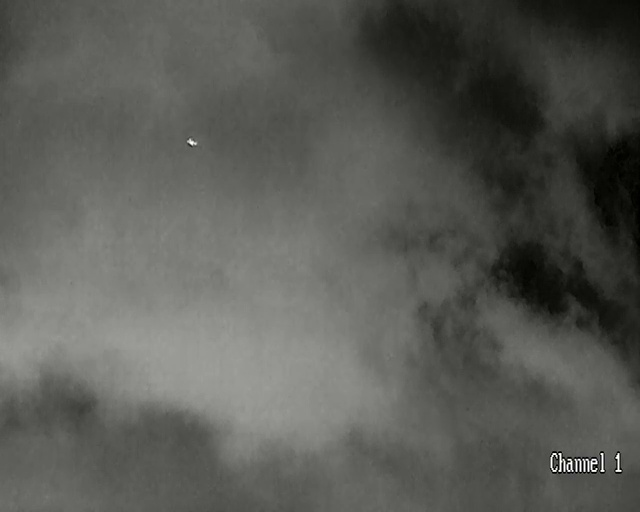uav: (186, 136, 197, 147)
